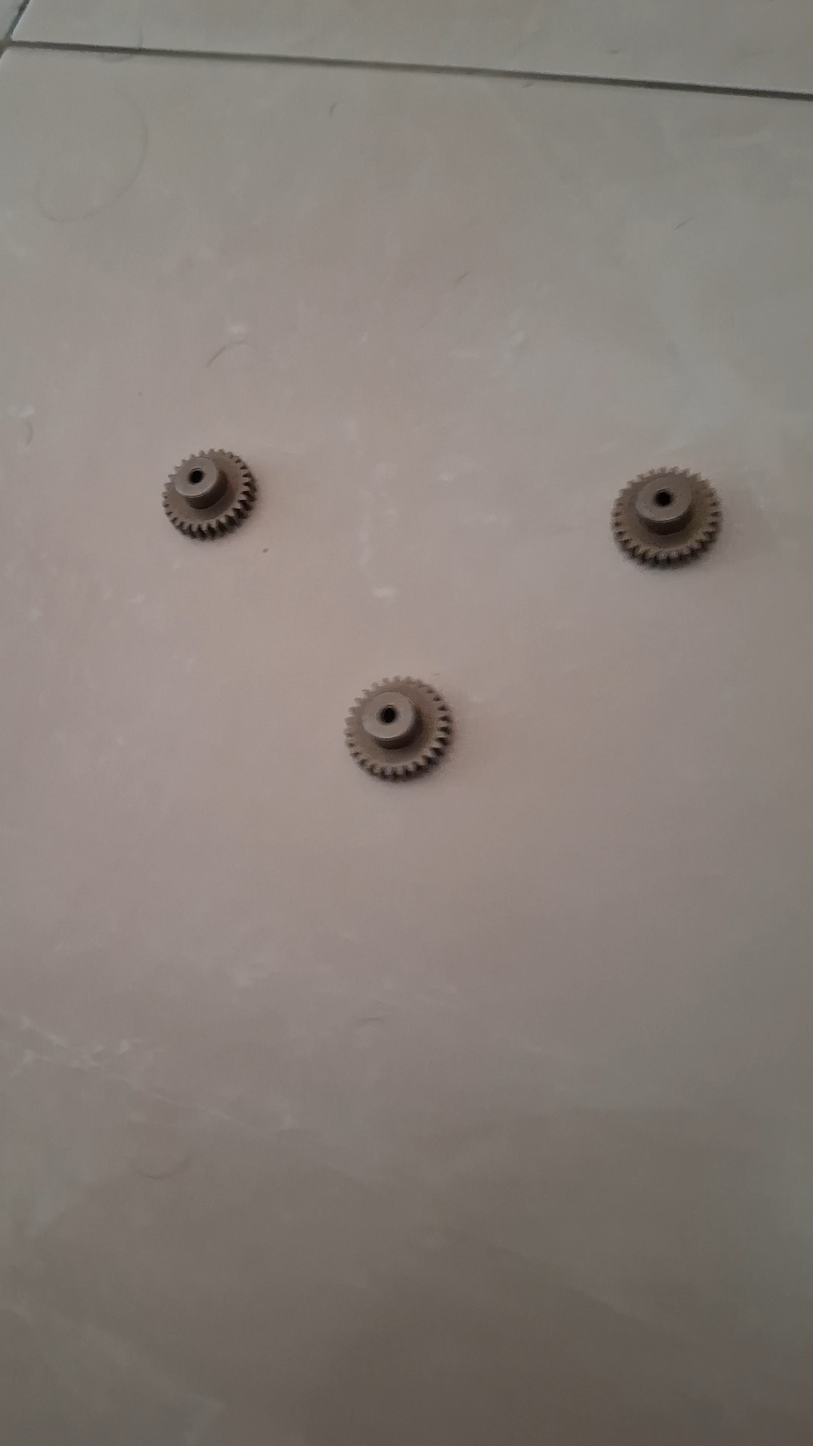spur gear: (345, 678, 452, 780), (612, 468, 721, 566), (163, 450, 256, 538)
